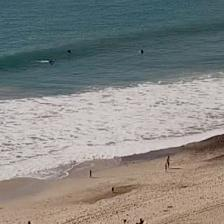surfer: (48, 60, 54, 64), (67, 49, 71, 53), (140, 49, 144, 53)
